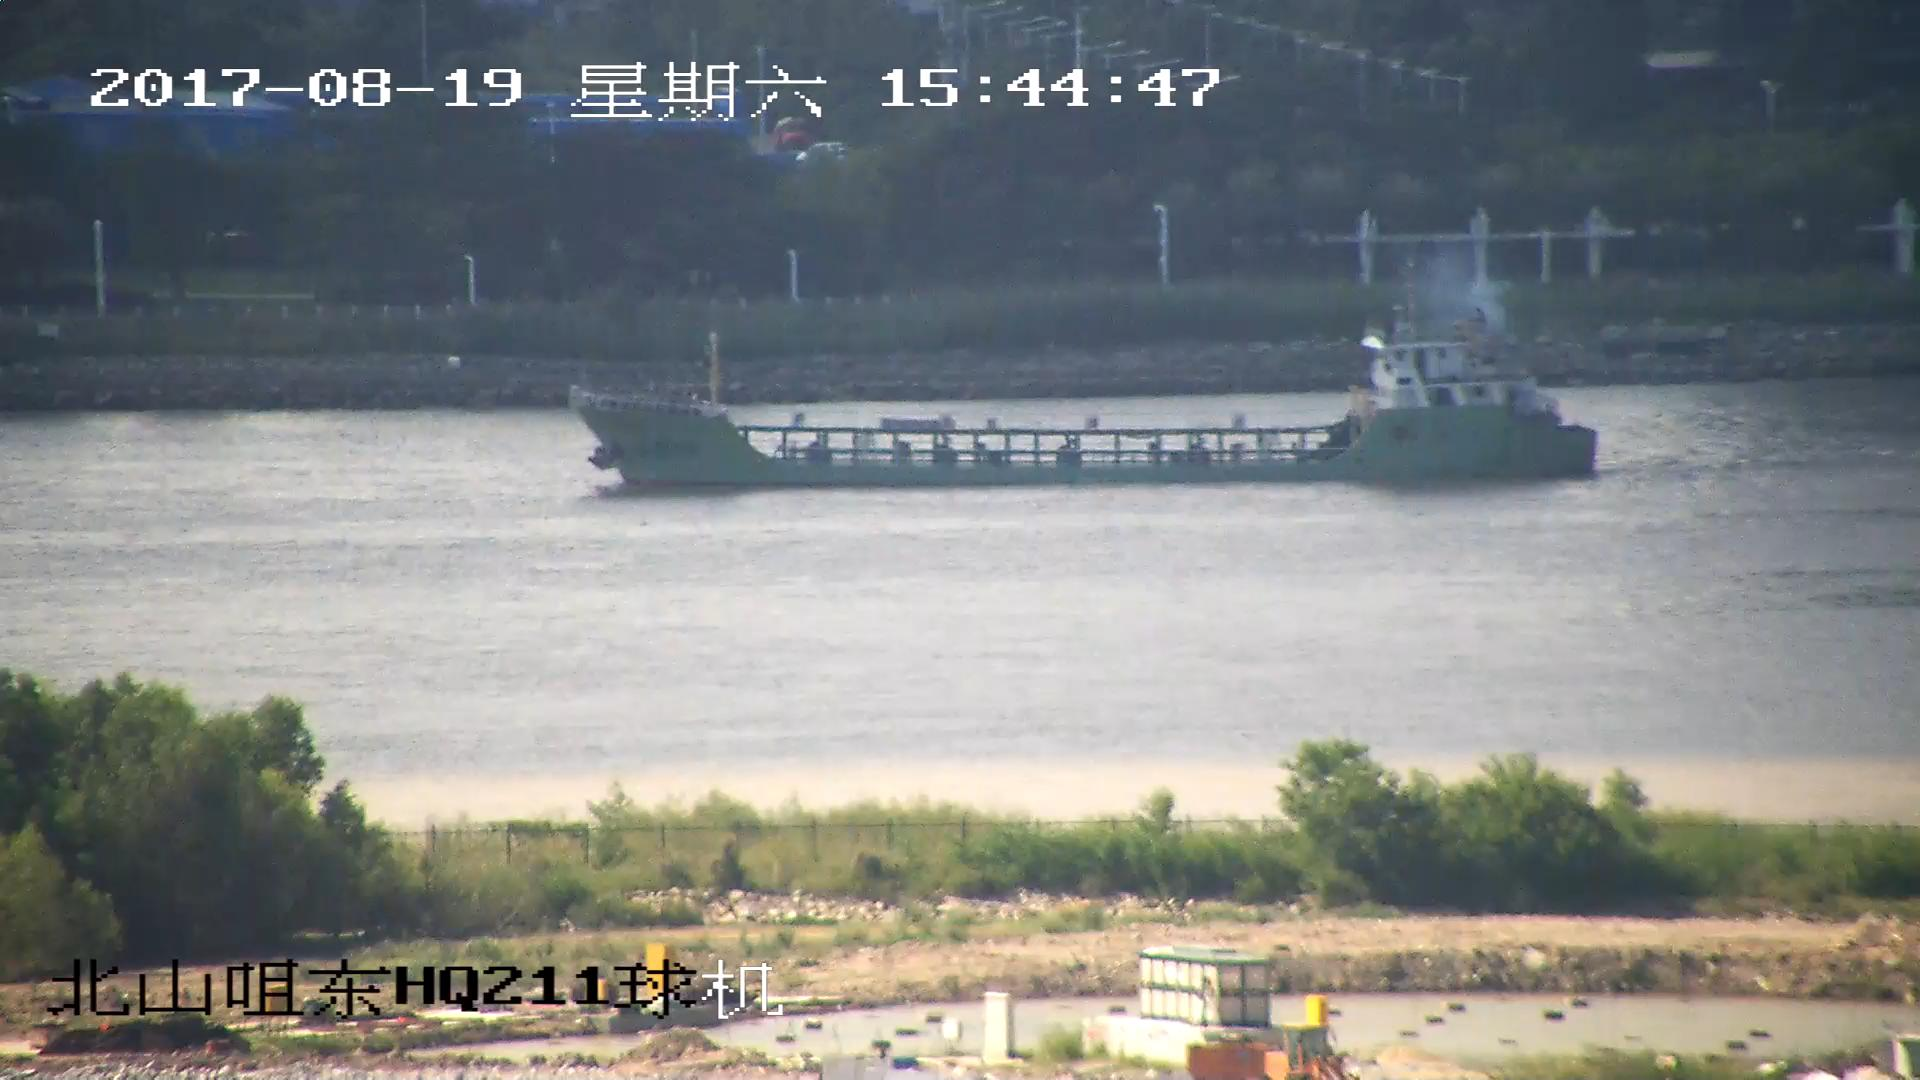general cargo ship: (578, 319, 1596, 492)
